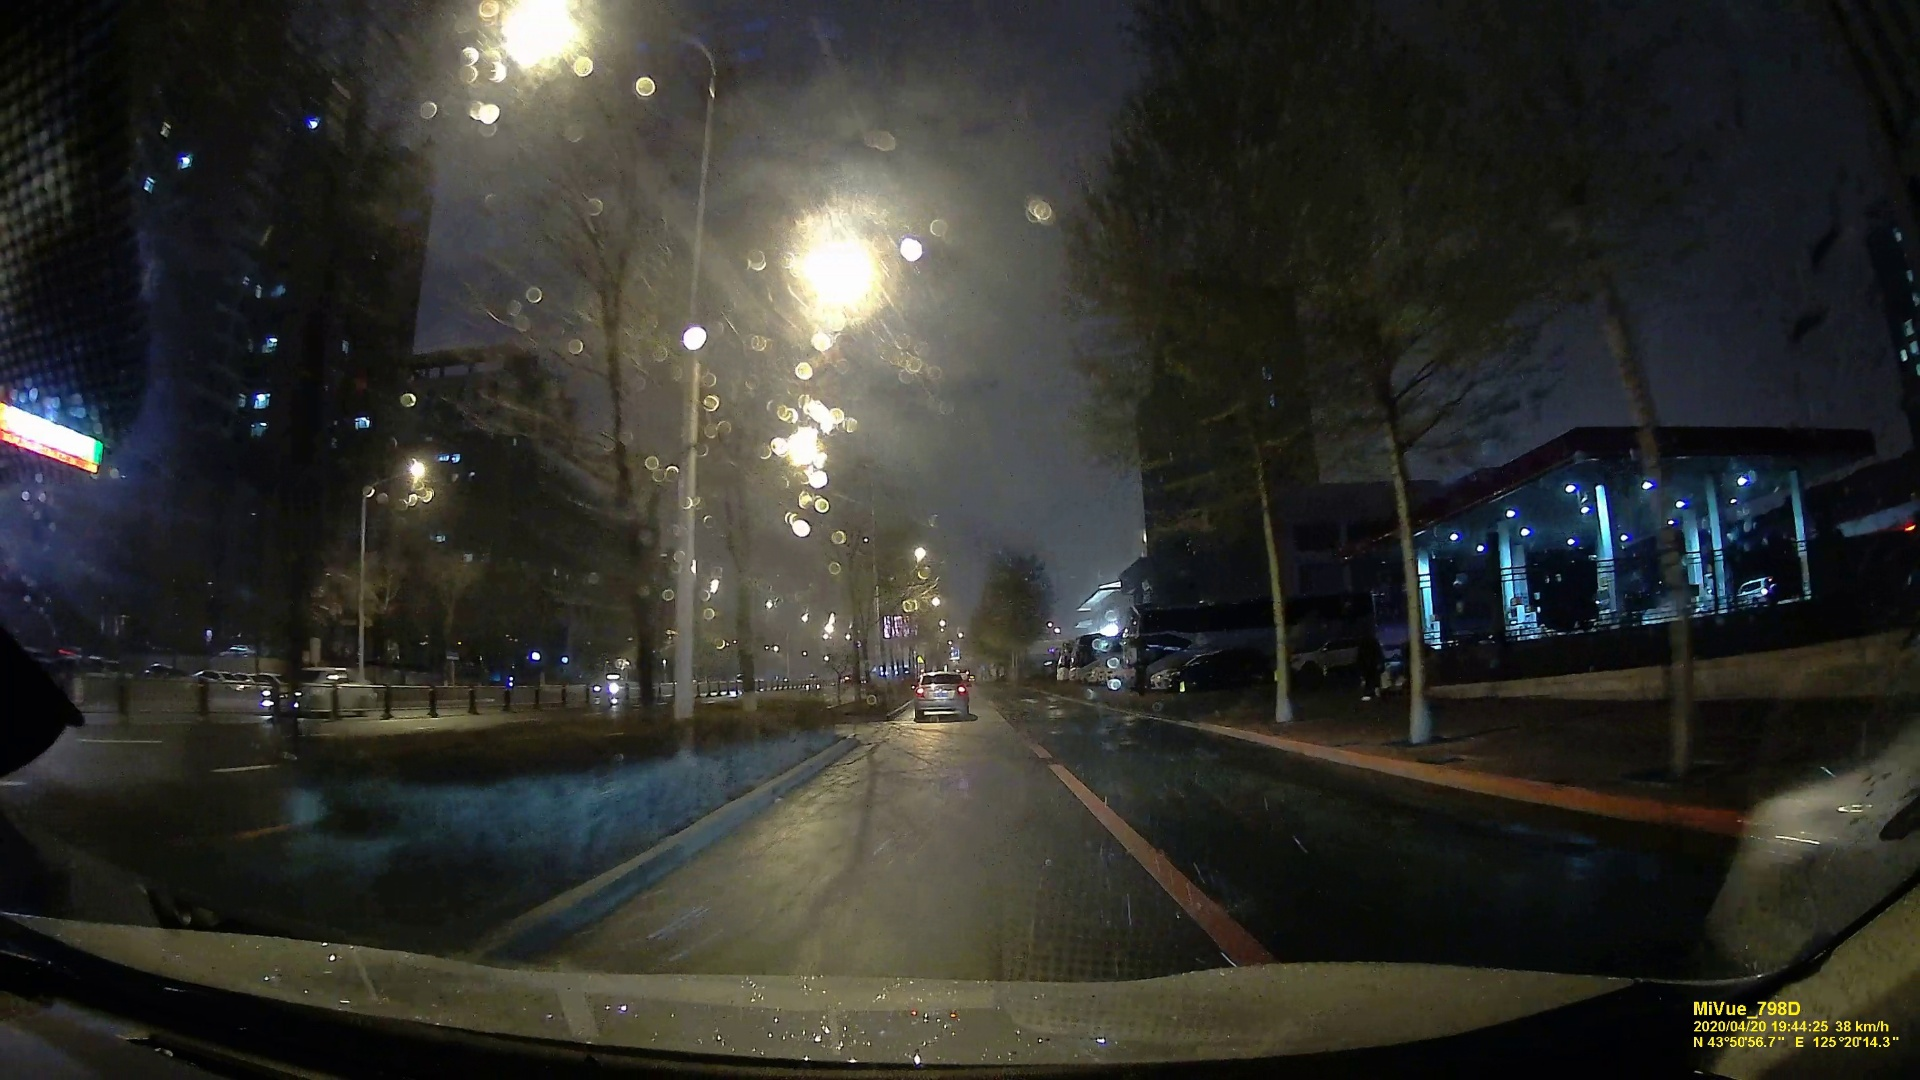vehicle: (260, 669, 373, 713), (913, 670, 975, 720)
